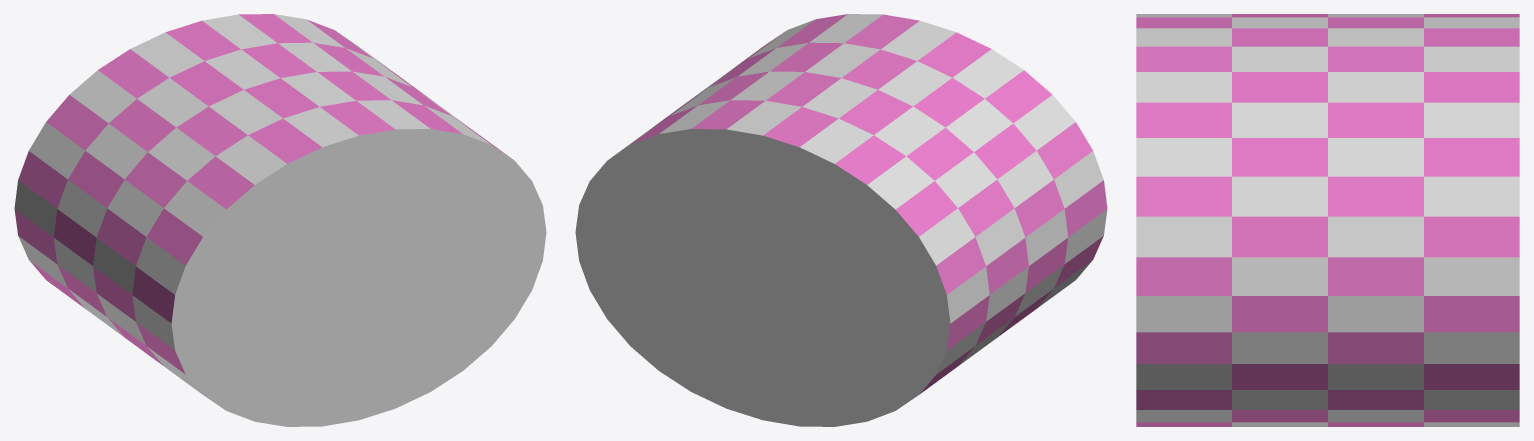
The model's file is obstacle2.fbx.
3 views of the same model, side by side, from view 1: azimuth 30°, elevation 25°; view 2: azimuth 150°, elevation 25°; view 3: azimuth 270°, elevation 25° (orthographic). The views are drawn at different scales.
Parts seen in each view (by area): view 1: Cylinder; view 2: Cylinder; view 3: Cylinder.
Boxes of the visible parts, x1,y1,x2,y2 form: Cylinder: (14, 14, 546, 426); Cylinder: (575, 14, 1107, 426); Cylinder: (1136, 14, 1519, 426).
Size of the model in its own units: 630 by 457 by 457.
